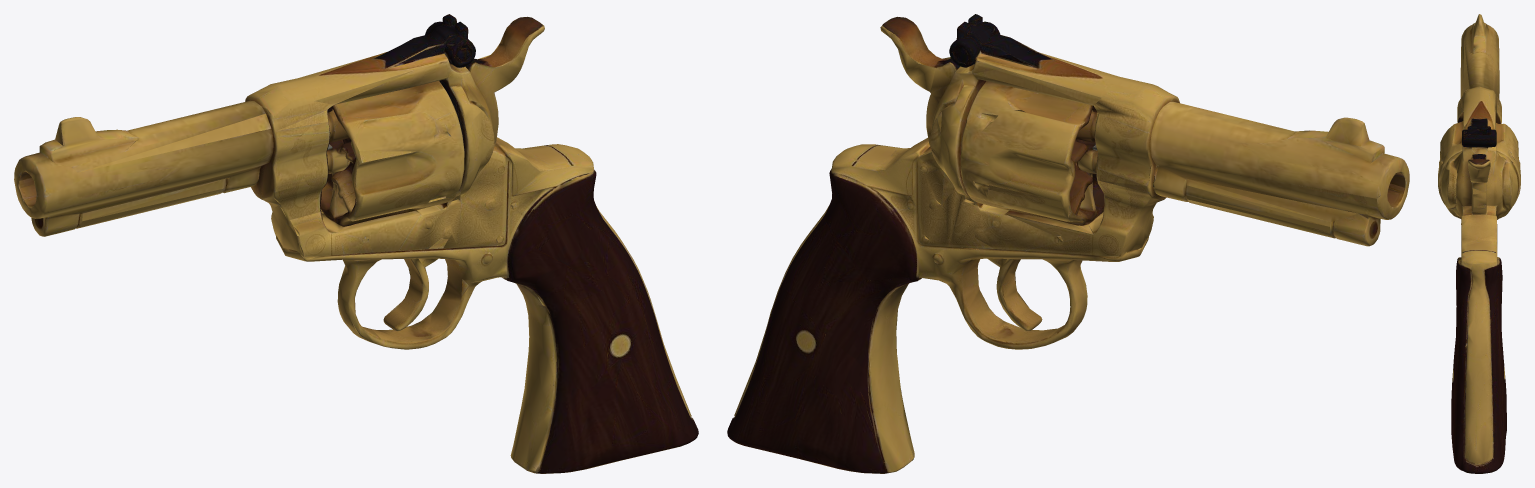
Rendered from golden_revolver.glb.
3 views of the same model, side by side, from view 1: azimuth 30°, elevation 25°; view 2: azimuth 150°, elevation 25°; view 3: azimuth 270°, elevation 25° (orthographic). The views are drawn at different scales.
Visible parts, largest first — view 1: Mesh_0; view 2: Mesh_0; view 3: Mesh_0.
Part boxes in pixels (box(x1,y1,x2,y2)): Mesh_0: box(14, 14, 698, 473); Mesh_0: box(727, 14, 1409, 473); Mesh_0: box(1438, 14, 1520, 473).
Size of the model in its own units: 0.1938 by 0.13 by 0.0348.
1 material, 1 textured.
